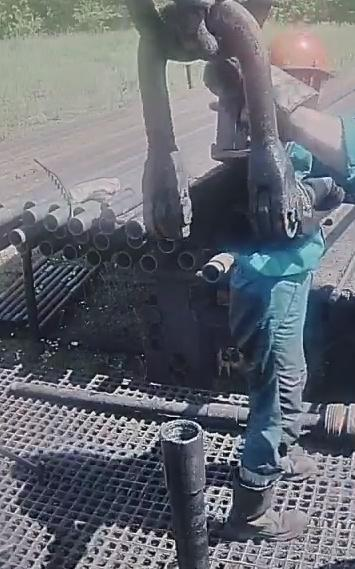gloves: (225, 41, 321, 138)
helmet: (263, 32, 346, 78)
